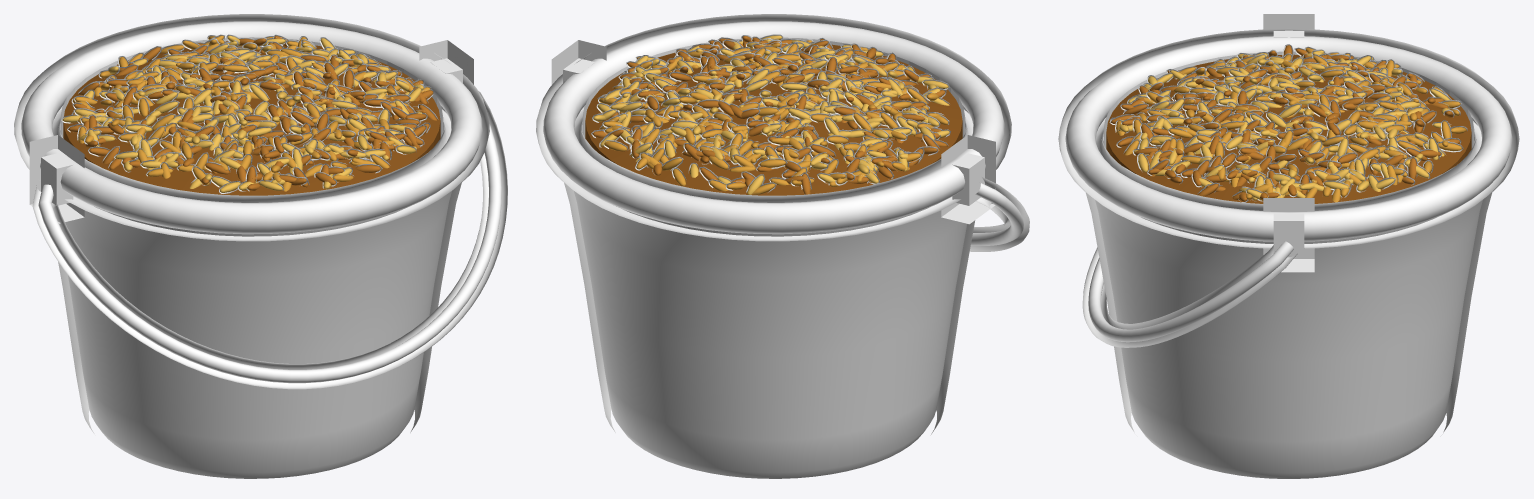
The model's file is eimer-hafer.glb.
The picture shows the model from 3 angles, left to right: view 1: azimuth 30°, elevation 25°; view 2: azimuth 150°, elevation 25°; view 3: azimuth 270°, elevation 25°; orthographic projection. The views are drawn at different scales.
Visible parts, largest first — view 1: koerper, Torus, buegel, hafer_dunkel, hafer_hell, hafer_mittel, hafer_haufen, Cube, Cube.001; view 2: koerper, Torus, hafer_mittel, hafer_hell, hafer_dunkel, hafer_haufen, Cube, buegel, Cube.001; view 3: koerper, Torus, hafer_dunkel, hafer_hell, hafer_mittel, hafer_haufen, buegel, Cube.001, Cube.
Part boxes in pixels (x1,y1,x2,y2): koerper: (57, 106, 461, 478); Torus: (14, 14, 489, 241); buegel: (32, 91, 507, 389); hafer_dunkel: (67, 34, 438, 191); hafer_hell: (61, 34, 425, 194); hafer_mittel: (71, 34, 431, 191); hafer_haufen: (60, 37, 443, 195); Cube: (29, 135, 84, 223); Cube.001: (419, 40, 473, 84); koerper: (564, 106, 975, 478); Torus: (536, 14, 1011, 241); hafer_mittel: (597, 39, 949, 194); hafer_hell: (592, 34, 950, 194); hafer_dunkel: (591, 35, 948, 194); hafer_haufen: (582, 37, 965, 195); Cube: (941, 135, 995, 224); buegel: (969, 176, 1029, 251); Cube.001: (551, 40, 606, 84); koerper: (1085, 118, 1492, 478); Torus: (1058, 28, 1519, 248); hafer_dunkel: (1109, 44, 1461, 202); hafer_hell: (1110, 49, 1451, 201); hafer_mittel: (1115, 46, 1467, 202); hafer_haufen: (1103, 51, 1474, 203); buegel: (1082, 241, 1297, 347); Cube.001: (1263, 198, 1314, 272); Cube: (1263, 14, 1314, 37).
Bounding box in the file's own units: 43.09 × 29.93 × 39.4.
